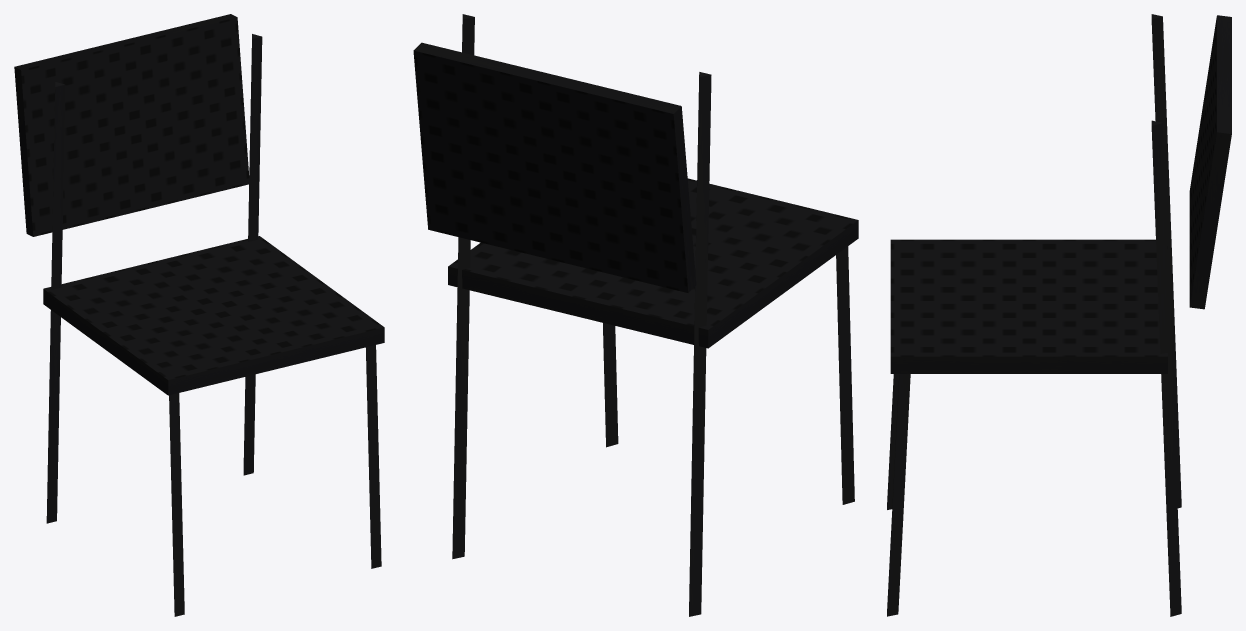
The model's file is SM_Molo_SediaNera_LOD2.fbx.
The picture shows the model from 3 angles, left to right: view 1: azimuth 30°, elevation 25°; view 2: azimuth 150°, elevation 25°; view 3: azimuth 270°, elevation 25°; orthographic projection. The views are drawn at different scales.
Visible parts, largest first — view 1: SM_Molo_SediaNera_LOD2; view 2: SM_Molo_SediaNera_LOD2; view 3: SM_Molo_SediaNera_LOD2.
Boxes of the visible parts, <box> form: SM_Molo_SediaNera_LOD2: <box>14,14,384,616</box>; SM_Molo_SediaNera_LOD2: <box>413,14,858,616</box>; SM_Molo_SediaNera_LOD2: <box>887,14,1231,616</box>.
Size of the model in its own units: 44 by 54.76 by 86.1.
1 material, 1 textured.
